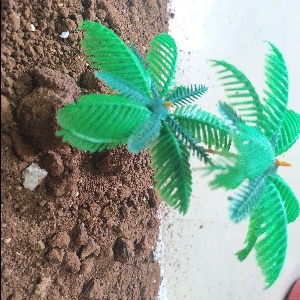plant: (55, 22, 300, 259)
